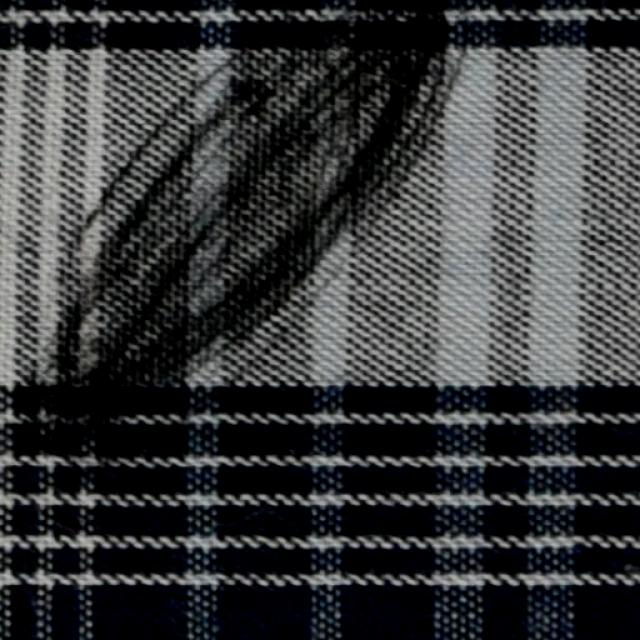Stain: (12, 7, 470, 467)
